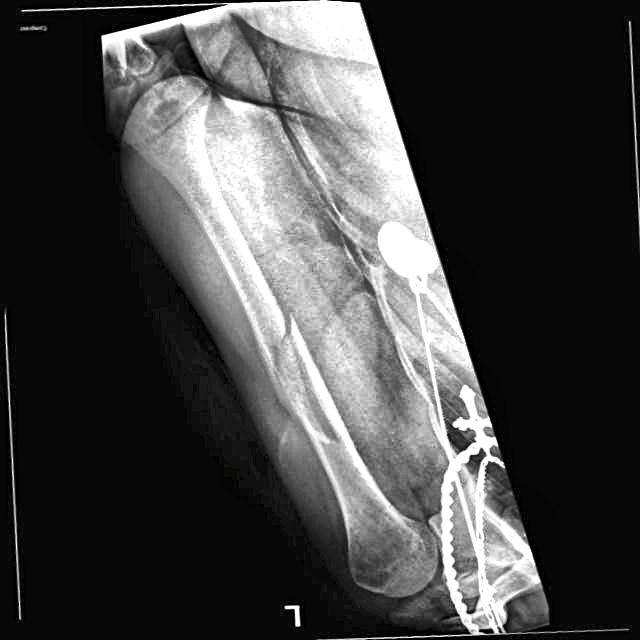Spiral: (239, 294, 322, 430)
